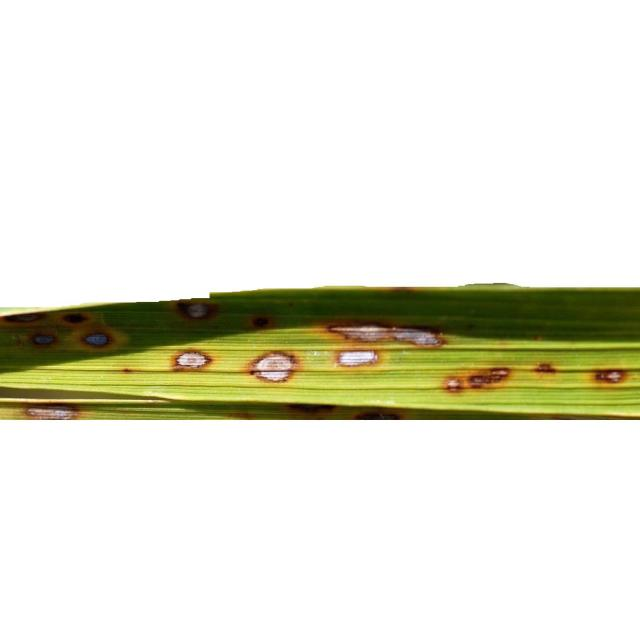Brown spot: (310, 304, 460, 348), (195, 400, 427, 421), (428, 357, 518, 391), (244, 338, 306, 385), (168, 338, 215, 376), (586, 364, 636, 398), (15, 399, 92, 421), (328, 344, 383, 373), (528, 350, 568, 386), (13, 328, 61, 352), (174, 303, 224, 326), (78, 328, 123, 351), (238, 312, 273, 334), (2, 312, 56, 325), (58, 310, 98, 326), (115, 366, 141, 380)
